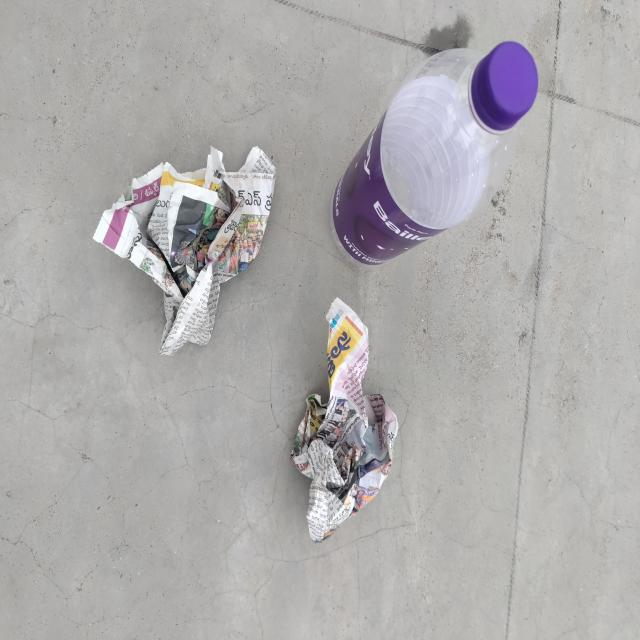paper: (87, 144, 276, 358), (291, 295, 398, 543)
plastic: (331, 39, 540, 270)
